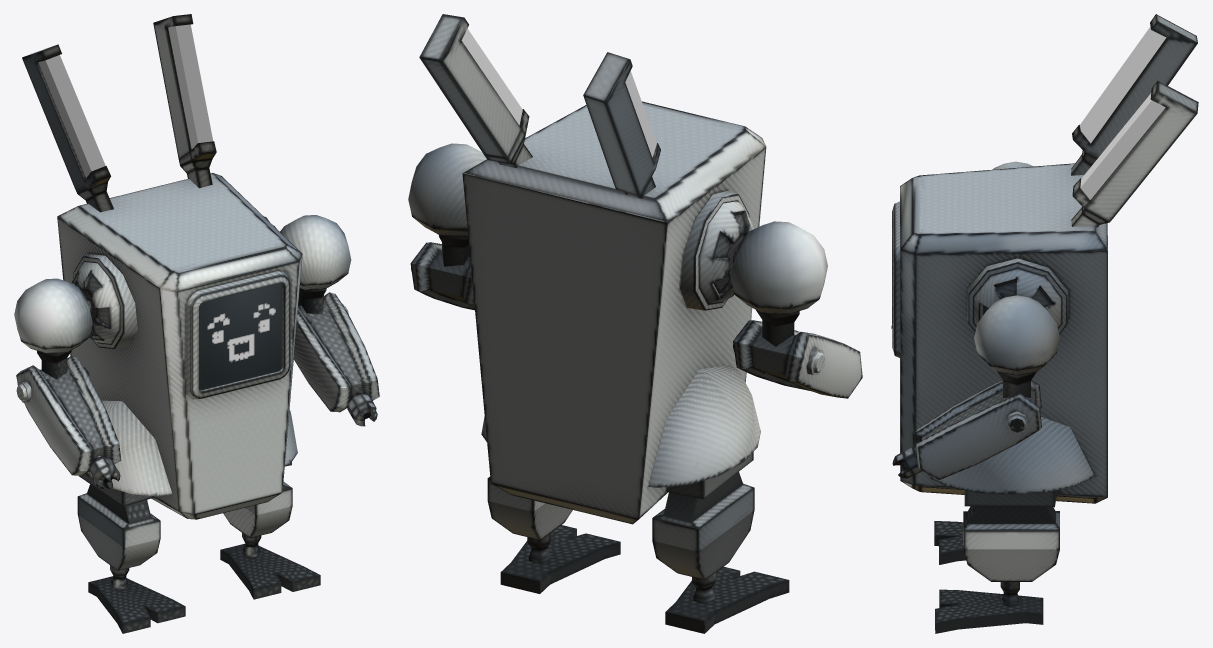
Rendered from Robot.glb.
3 views of the same model, side by side, from view 1: azimuth 30°, elevation 25°; view 2: azimuth 150°, elevation 25°; view 3: azimuth 270°, elevation 25° (orthographic). The views are drawn at different scales.
Visible parts, largest first — view 1: Body, LegL, LegR; view 2: Body, LegL, LegR; view 3: Body, LegR, LegL.
Boxes of the visible parts, left/top/right/bottom form: Body: left=14, top=14, right=379, bottom=519; LegL: left=77, top=443, right=196, bottom=633; LegR: left=220, top=412, right=320, bottom=599; Body: left=408, top=14, right=862, bottom=524; LegL: left=648, top=396, right=789, bottom=633; LegR: left=481, top=424, right=620, bottom=593; Body: left=891, top=14, right=1198, bottom=503; LegR: left=918, top=431, right=1097, bottom=633; LegL: left=934, top=521, right=965, bottom=564.
Bounding box in the file's own units: 1.47 × 2.14 × 1.12.
Materials: 1 (1 with a texture image).
